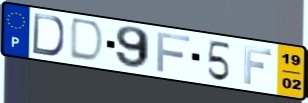5: (206, 39, 232, 82)
9: (115, 25, 155, 72)
D: (67, 16, 107, 65), (30, 11, 67, 58)
F: (155, 31, 193, 74), (243, 44, 274, 86)
